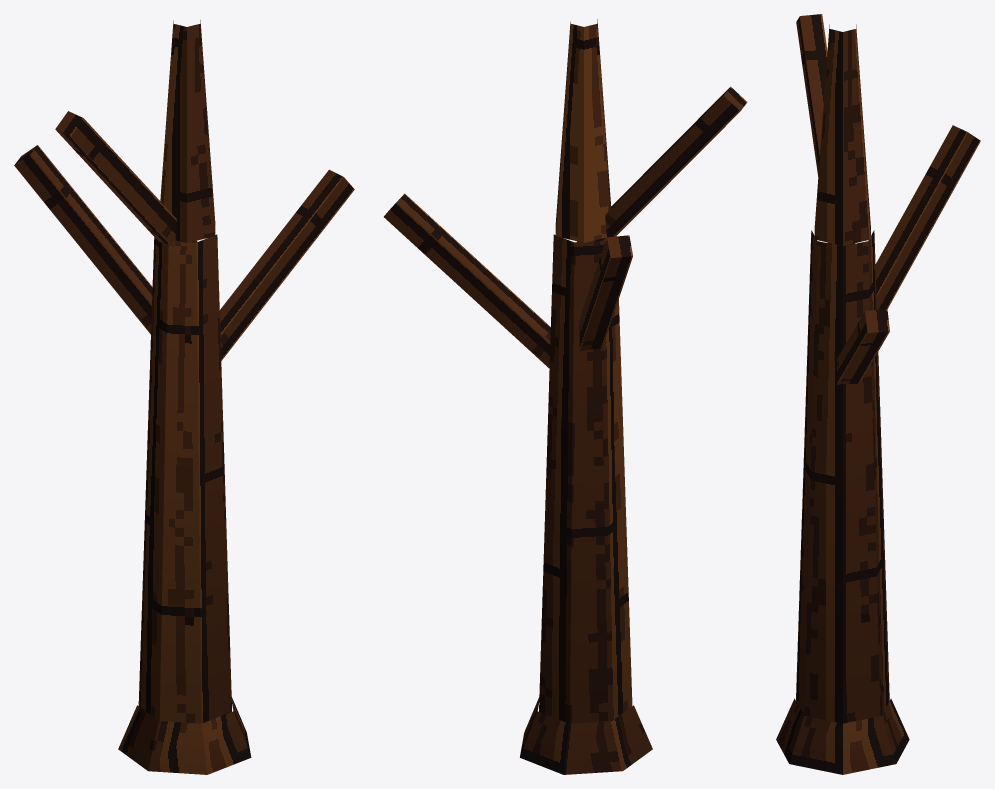
File: apple_2_trunk.glb
The picture shows the model from 3 angles, left to right: view 1: azimuth 30°, elevation 25°; view 2: azimuth 150°, elevation 25°; view 3: azimuth 270°, elevation 25°; orthographic projection.
Parts seen in each view (by area): view 1: apple_2_trunk; view 2: apple_2_trunk; view 3: apple_2_trunk.
Part boxes in pixels (x1=…): apple_2_trunk: x1=14, y1=20, x2=354, y2=774; apple_2_trunk: x1=384, y1=19, x2=747, y2=774; apple_2_trunk: x1=776, y1=14, x2=980, y2=774.
Bounding box in the file's own units: 1.95 × 4.18 × 1.08.
Materials: 1 (1 with a texture image).
